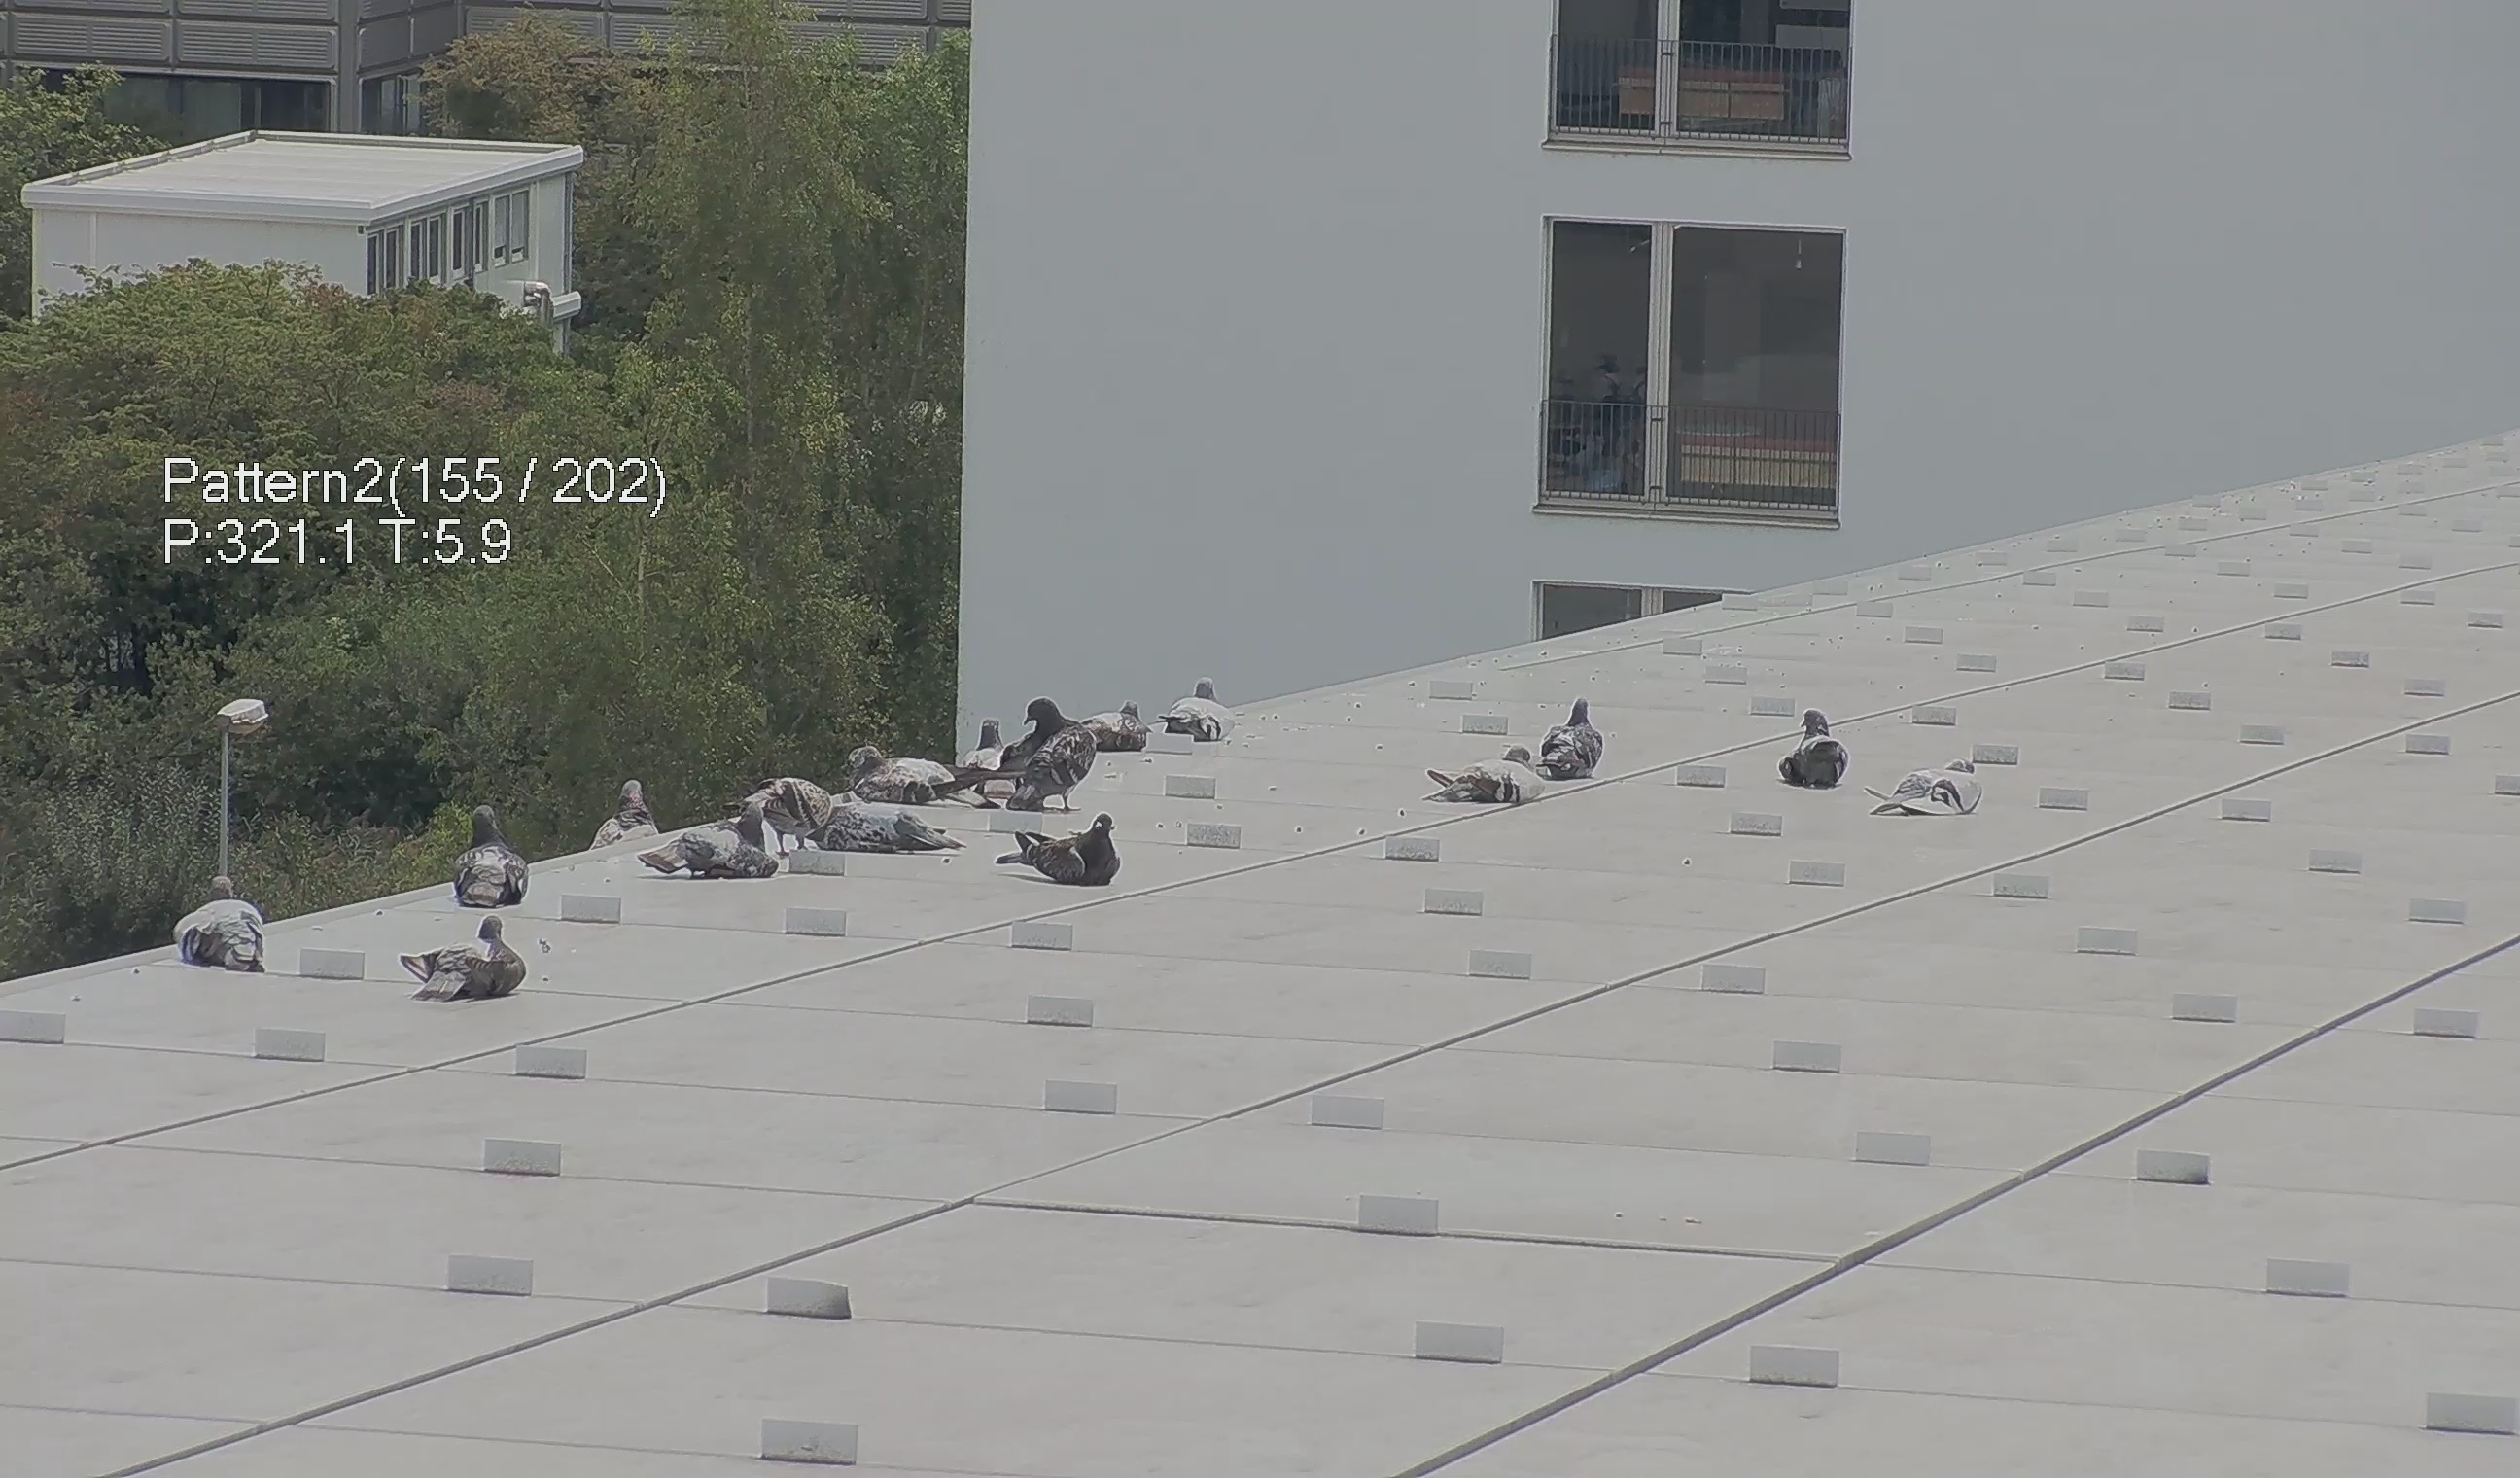Pigeon: (797, 790, 965, 871), (378, 920, 521, 1013), (631, 801, 770, 896), (162, 864, 276, 975), (445, 790, 535, 918), (999, 813, 1127, 901), (1001, 699, 1099, 811), (846, 741, 983, 811), (1421, 737, 1555, 808), (1859, 753, 1991, 820), (1532, 683, 1616, 785), (751, 767, 835, 857), (1773, 706, 1852, 792), (586, 774, 666, 850), (1164, 670, 1240, 750), (1085, 690, 1152, 760), (957, 716, 1020, 778)
